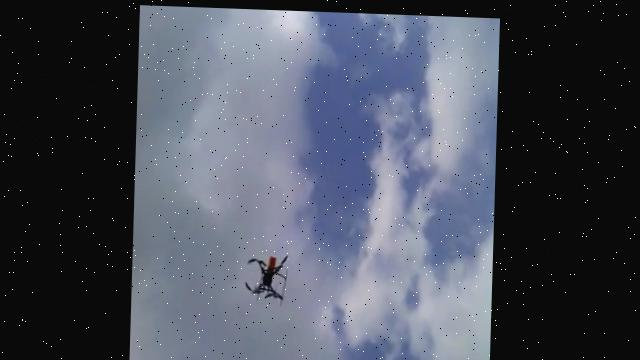drone: (243, 248, 293, 304)
